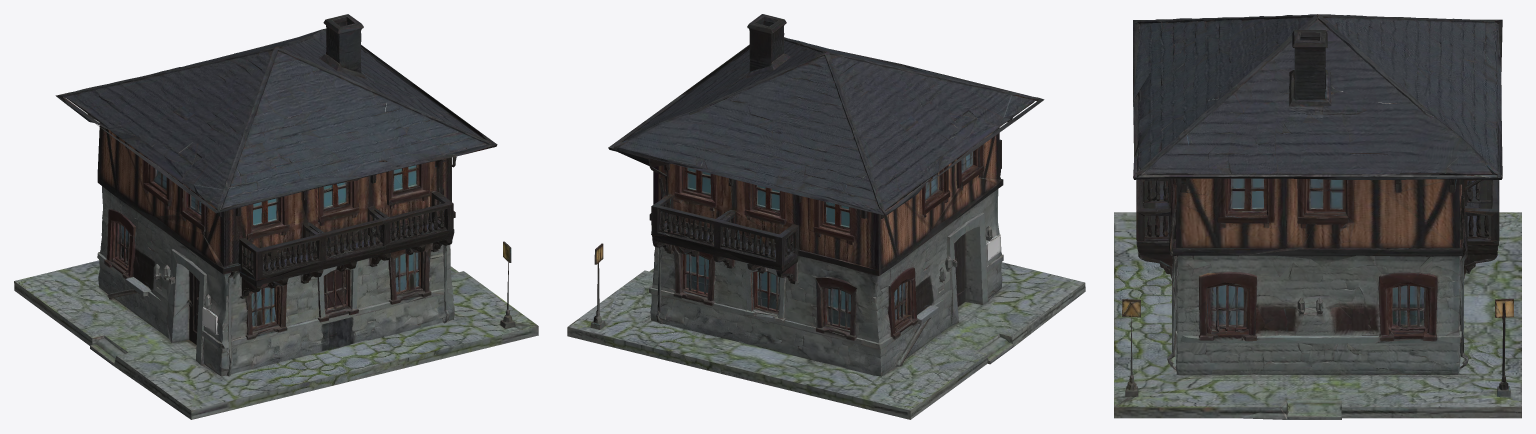
File: prison_station.glb
3 renders of one model, left to right at view 1: azimuth 30°, elevation 25°; view 2: azimuth 150°, elevation 25°; view 3: azimuth 270°, elevation 25°, orthographic. The views are drawn at different scales.
Bounding box in the file's own units: 1.9 × 1.43 × 1.65.
1 material, 1 textured.
